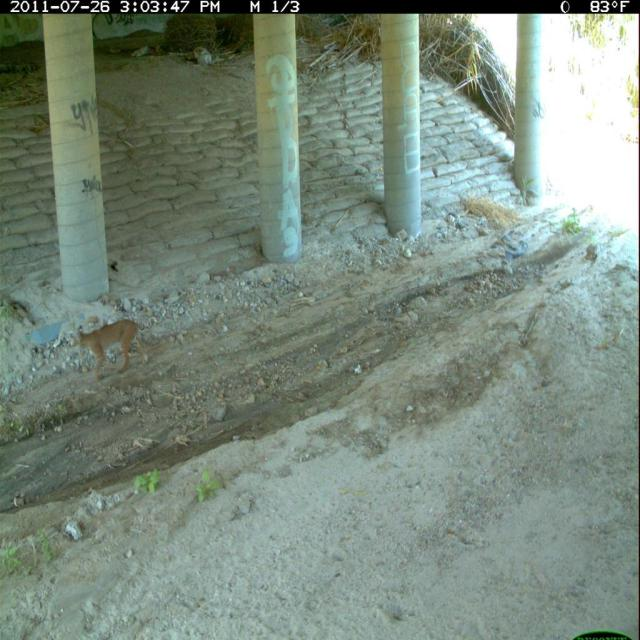bobcat: (67, 314, 152, 385)
